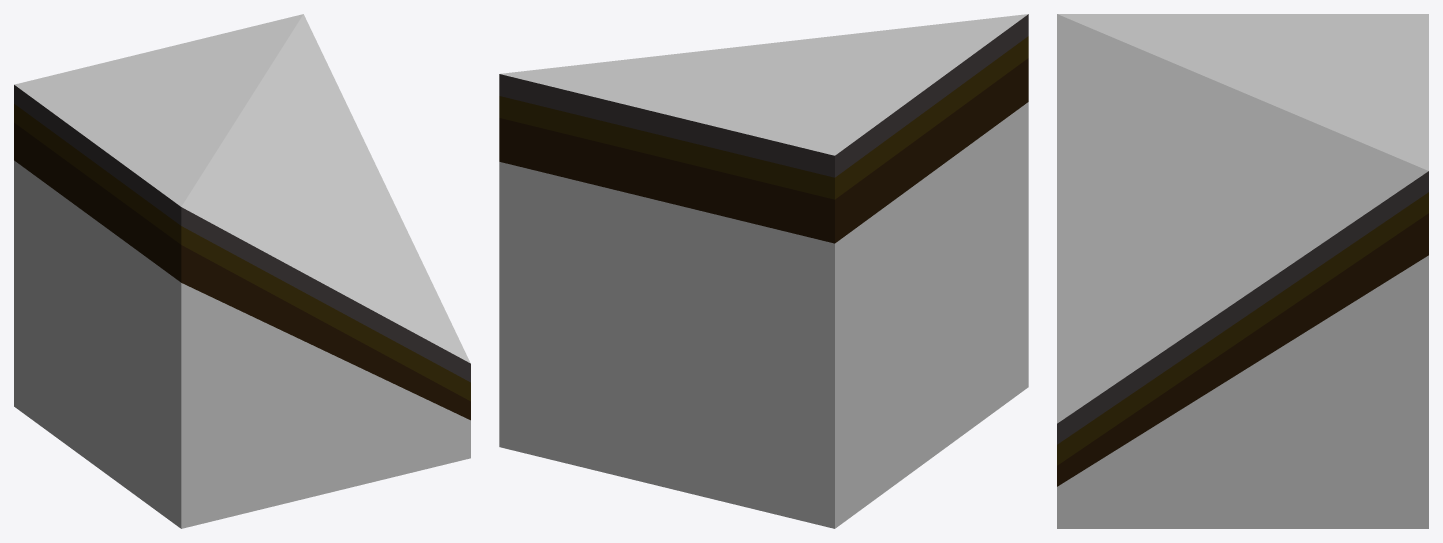
File: model_loc_1640_d.obj
3 views of the same model, side by side, from view 1: azimuth 30°, elevation 25°; view 2: azimuth 150°, elevation 25°; view 3: azimuth 270°, elevation 25° (orthographic). The views are drawn at different scales.
Visible parts, largest first — view 1: 618; view 2: 618; view 3: 618.
Part boxes in pixels (x1,y1,x2,y2): 618: [14, 14, 470, 528]; 618: [499, 14, 1028, 528]; 618: [1057, 14, 1428, 528].
Bounding box in the file's own units: 128 × 136 × 128.
